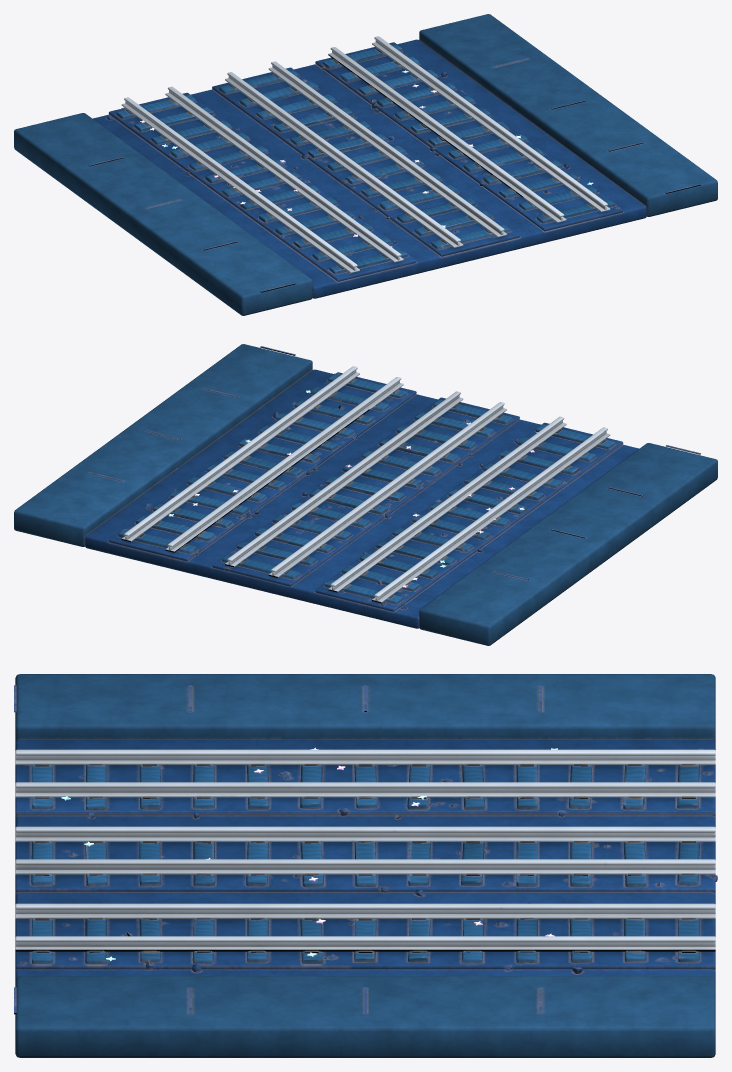
The model's file is mu_track_segment.glb.
3 renders of one model, top to bottom at view 1: azimuth 30°, elevation 25°; view 2: azimuth 150°, elevation 25°; view 3: azimuth 270°, elevation 25°, orthographic. The views are drawn at different scales.
Visible parts, largest first — view 1: mu_track_segment; view 2: mu_track_segment; view 3: mu_track_segment.
Boxes of the visible parts, <box> form: mu_track_segment: <box>14,14,717,315</box>; mu_track_segment: <box>14,344,717,645</box>; mu_track_segment: <box>14,674,717,1057</box>.
Size of the model in its own units: 12 by 0.5925 by 10.05.
7 materials, 7 textured.
